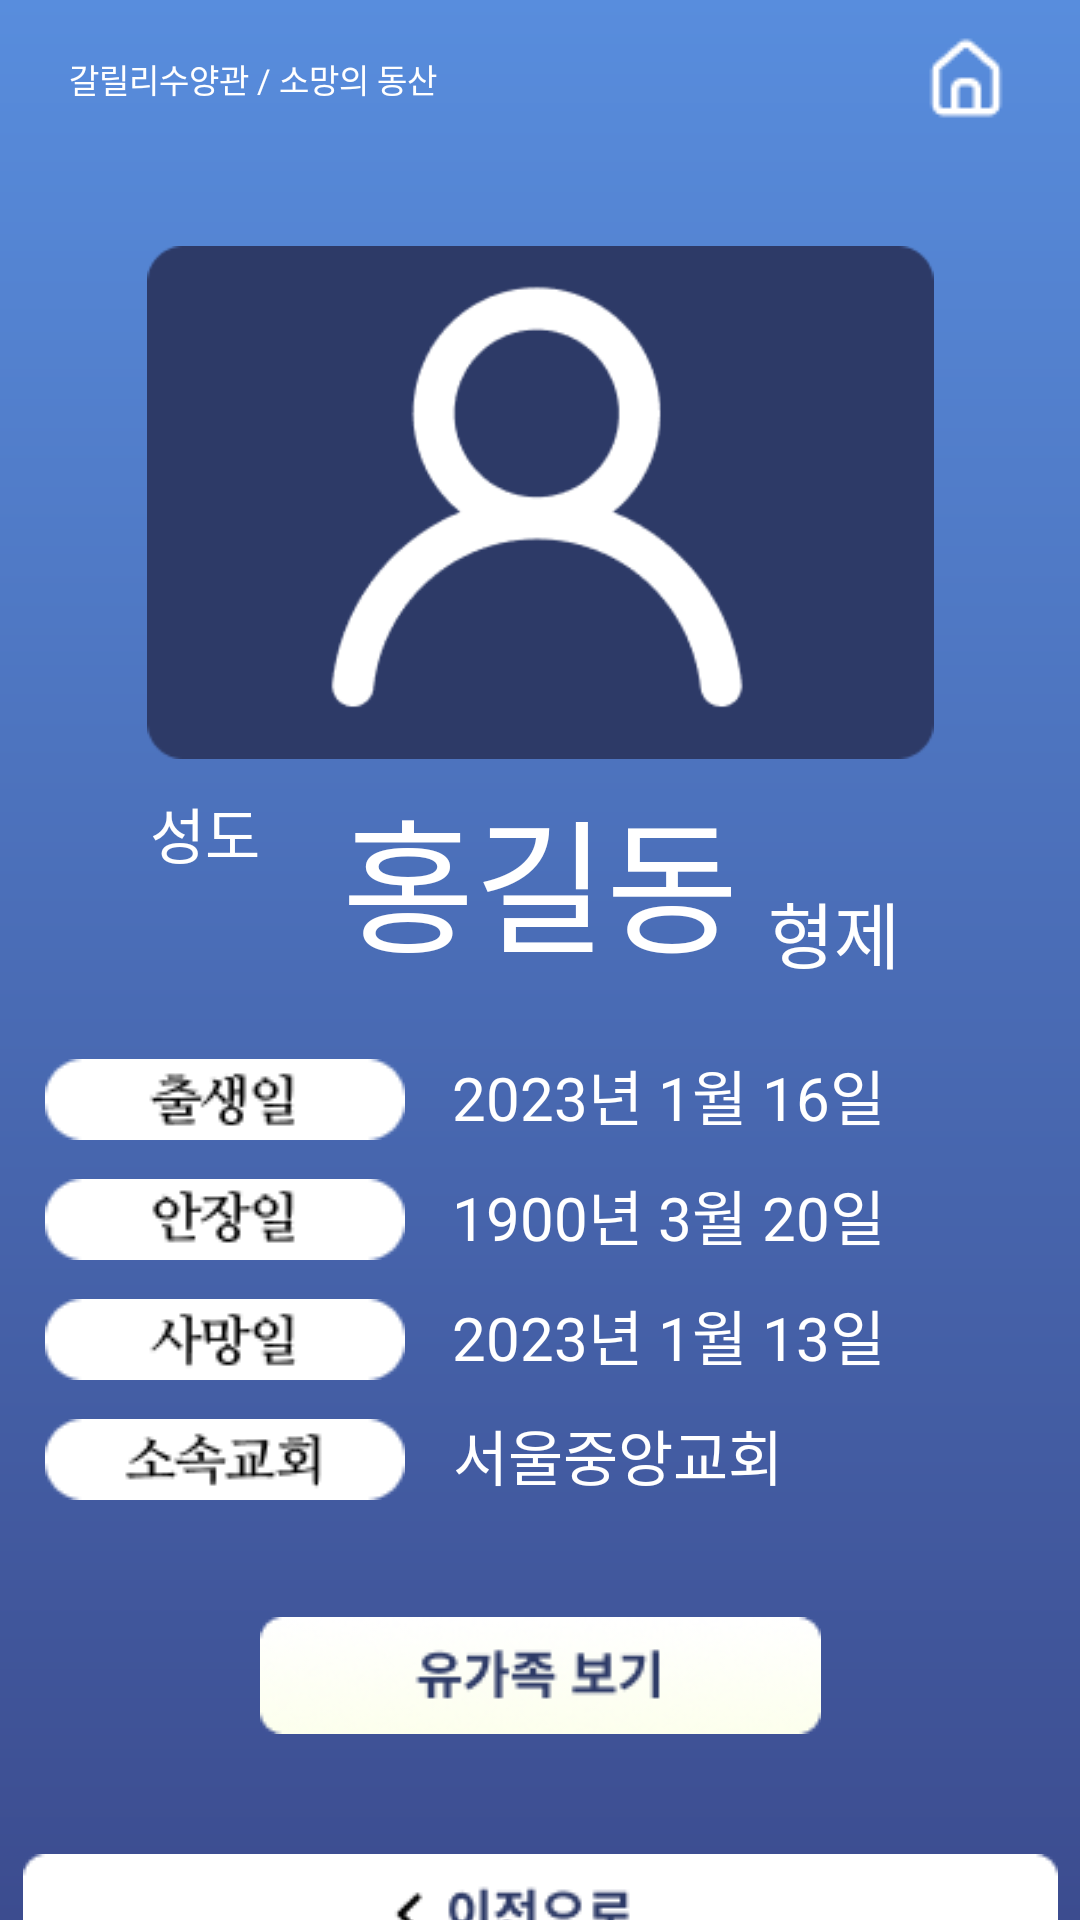

Locate icon controls on the screen. Image size 1080x1920, boxes as detection(x1, y1, x2, y2).
home: detection(930, 38, 1002, 118)
